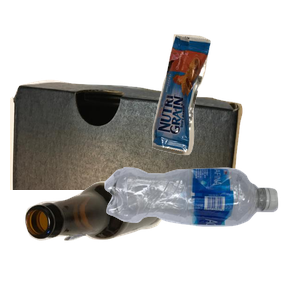cardboard: (10, 77, 245, 257)
glass: (23, 179, 183, 300)
plastic: (102, 165, 300, 300)
trash: (149, 31, 300, 179)
